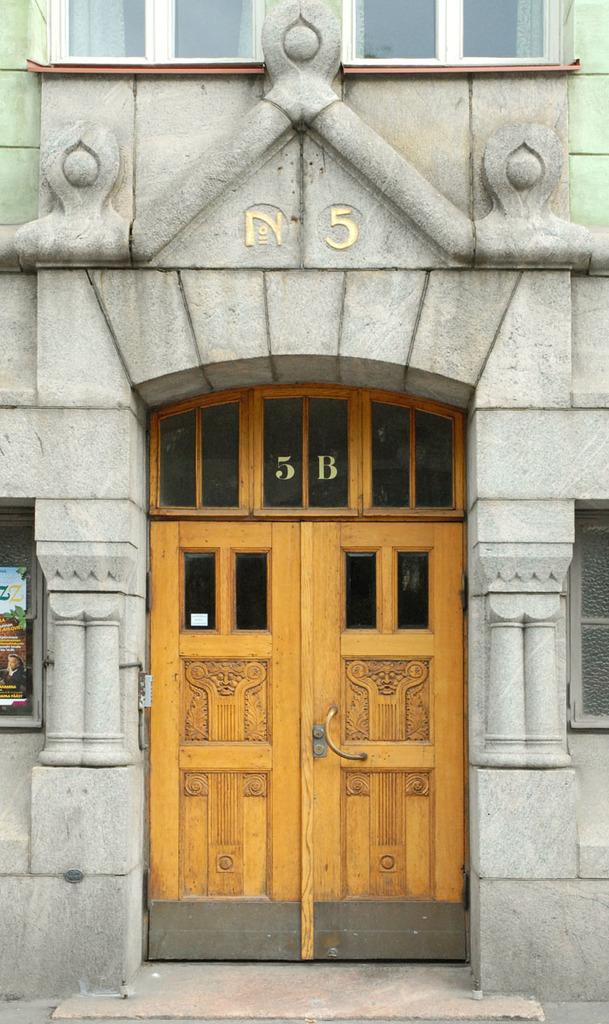door: (151, 528, 296, 940), (315, 533, 460, 939)
handle: (325, 701, 366, 768), (312, 718, 325, 750)
